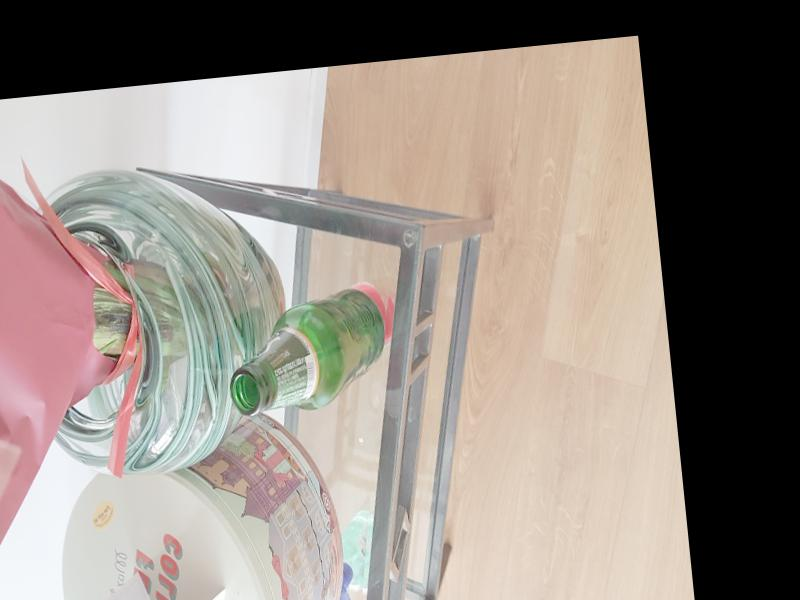Beer: (222, 284, 391, 418)
